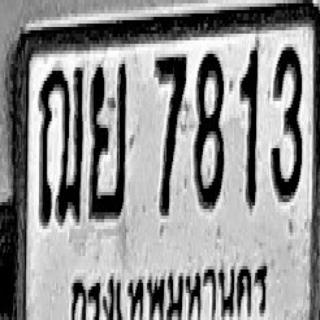A12: (38, 64, 84, 226)
A34: (88, 62, 126, 217)
N01: (239, 45, 258, 207)
N03: (271, 46, 302, 200)
N07: (155, 54, 186, 216)
N08: (194, 51, 224, 209)
P04: (68, 260, 272, 320)
